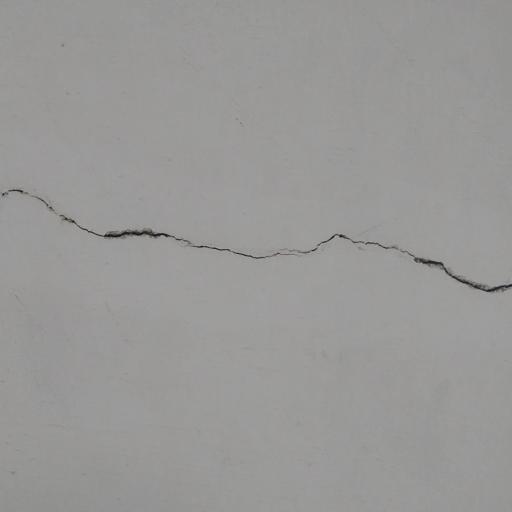major_crack: (0, 183, 512, 302)
